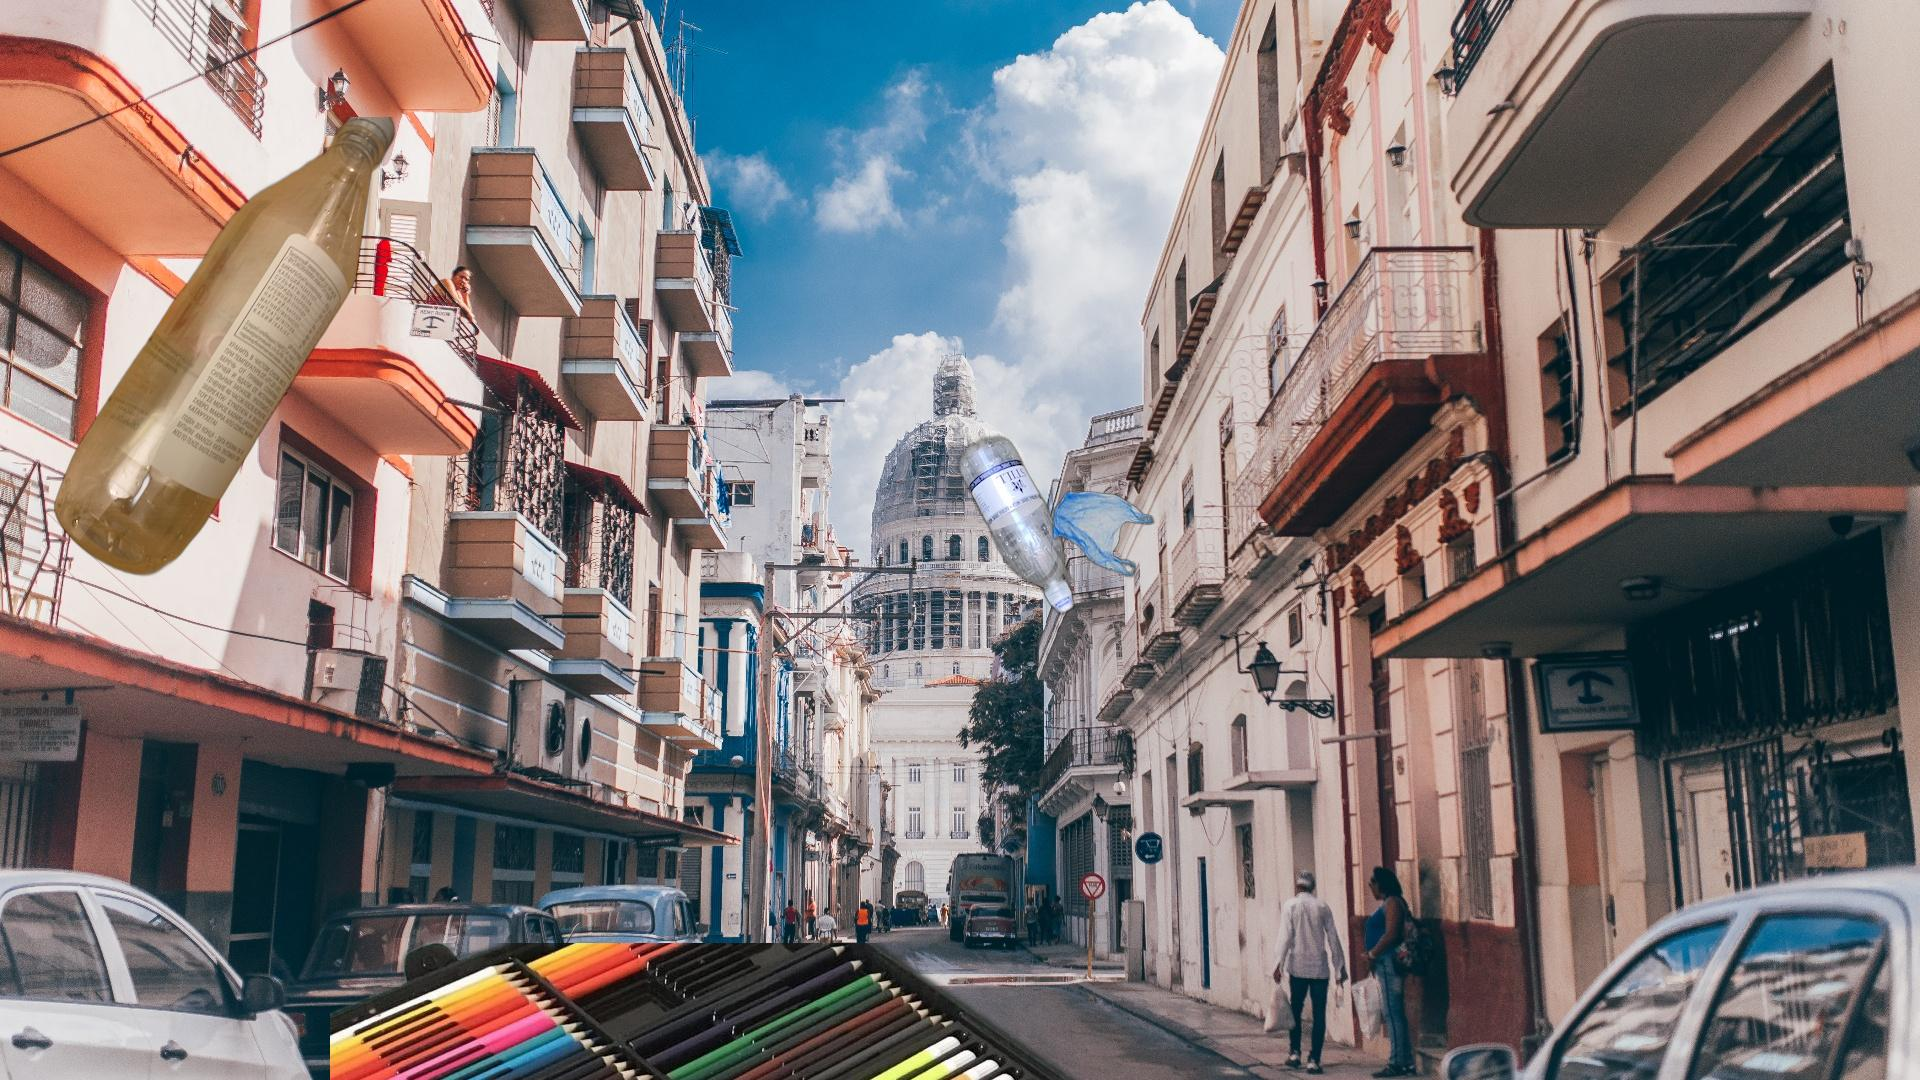penholder: (330, 943, 1664, 1080)
plastic-bag: (1050, 488, 1156, 582), (510, 1031, 589, 1080)
plastic-bottles: (50, 117, 401, 580), (953, 430, 1079, 783)
shoes: (603, 1058, 770, 1080)
